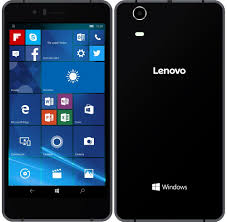lenovo: (115, 1, 227, 222)
